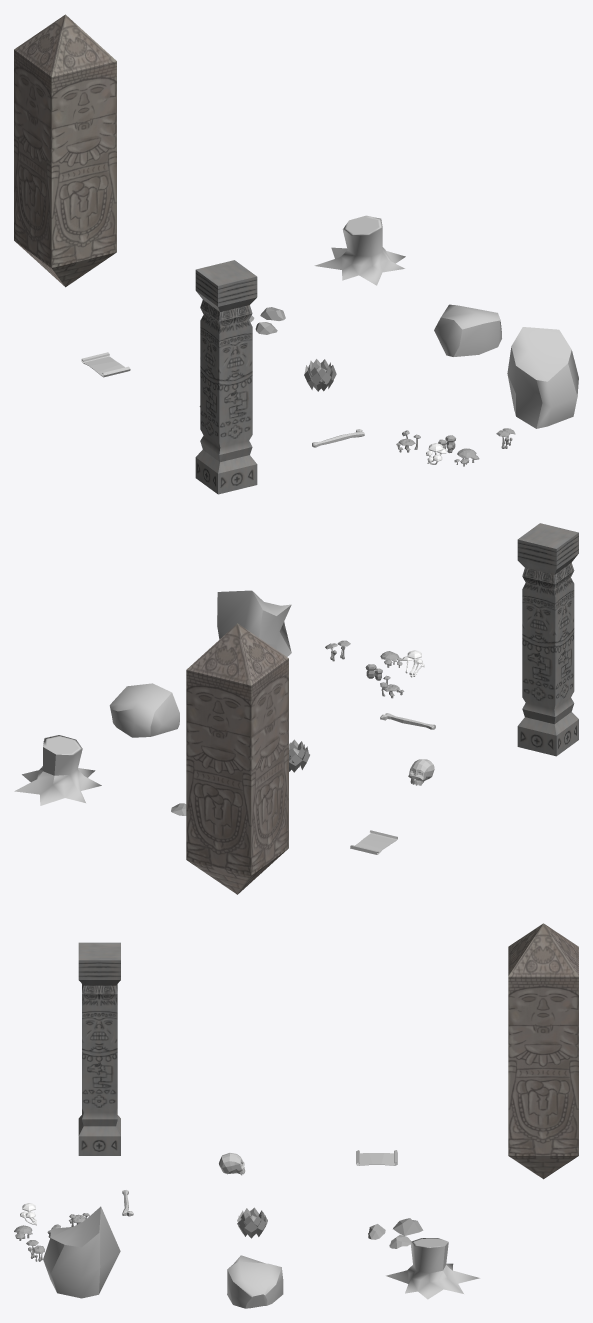
File: All props polybrush.fbx
3 renders of one model, top to bottom at view 1: azimuth 30°, elevation 25°; view 2: azimuth 150°, elevation 25°; view 3: azimuth 270°, elevation 25°, orthographic. The views are drawn at different scales.
Visible parts, largest first — view 1: Obelisk, Pillar, Rock, Stump, Rock_2, Flower, Paper; view 2: Obelisk, Pillar, Stump, Rock_2, Rock, Paper, Skull, Flower; view 3: Obelisk, Pillar, Rock, Stump, Rock_2, Rocks, Flower, Paper.
Part boxes in pixels (x1,y1,x2,y2): Obelisk: (14, 14, 116, 287); Pillar: (195, 260, 257, 494); Rock: (507, 327, 578, 428); Stump: (314, 215, 405, 285); Rock_2: (434, 304, 501, 356); Flower: (304, 359, 336, 391); Paper: (81, 352, 130, 377); Obelisk: (186, 623, 288, 894); Pillar: (517, 523, 578, 756); Stump: (14, 735, 101, 805); Rock_2: (109, 683, 179, 737); Rock: (217, 590, 291, 656); Paper: (350, 830, 397, 854); Skull: (408, 759, 434, 785); Flower: (289, 739, 309, 772); Obelisk: (508, 923, 578, 1179); Pillar: (78, 942, 120, 1155); Rock: (43, 1206, 120, 1298); Stump: (386, 1238, 479, 1299); Rock_2: (227, 1255, 283, 1308); Rocks: (368, 1218, 423, 1248); Flower: (237, 1207, 267, 1238); Paper: (356, 1150, 397, 1165).
Size of the model in its own units: 22.64 by 16.35 by 31.43.
